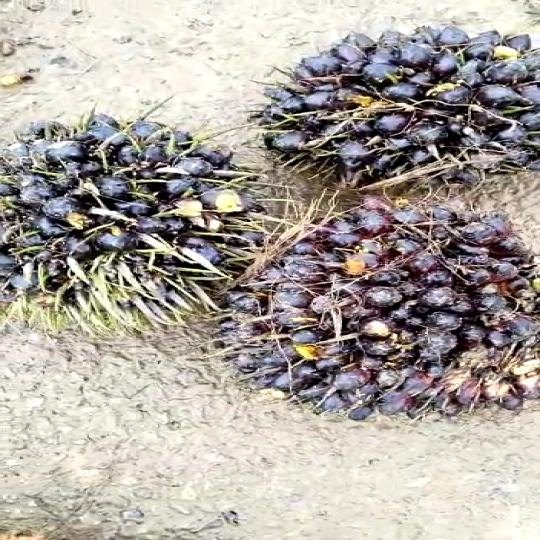mentah: (234, 201, 540, 417), (0, 101, 265, 336), (240, 33, 540, 193)
